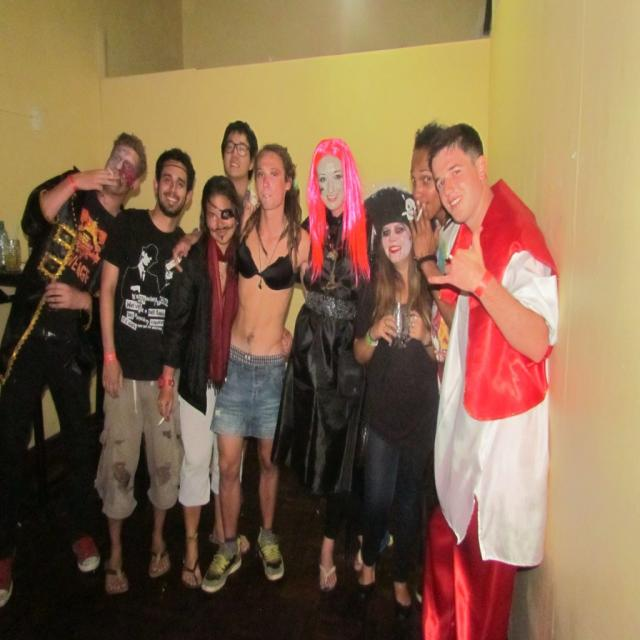body: (418, 118, 566, 640), (0, 130, 149, 610), (170, 143, 320, 594), (419, 116, 538, 640), (94, 145, 200, 593), (270, 136, 374, 592), (347, 184, 439, 621), (157, 174, 244, 588), (220, 119, 261, 241)
